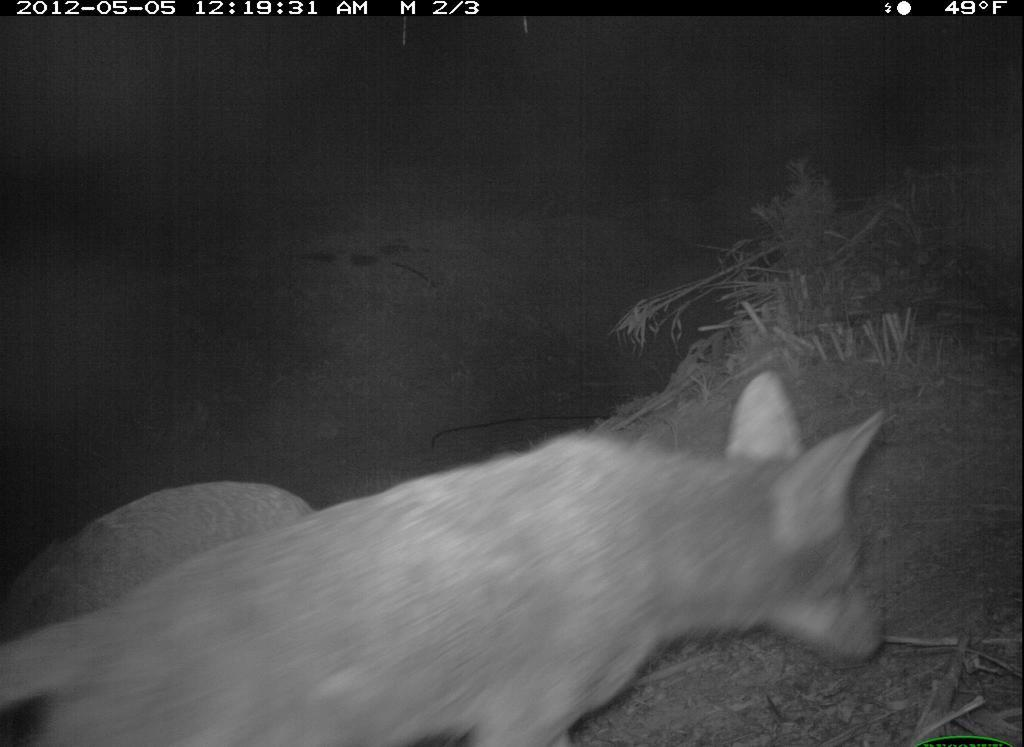coyote: (4, 359, 896, 747), (2, 469, 319, 638)
